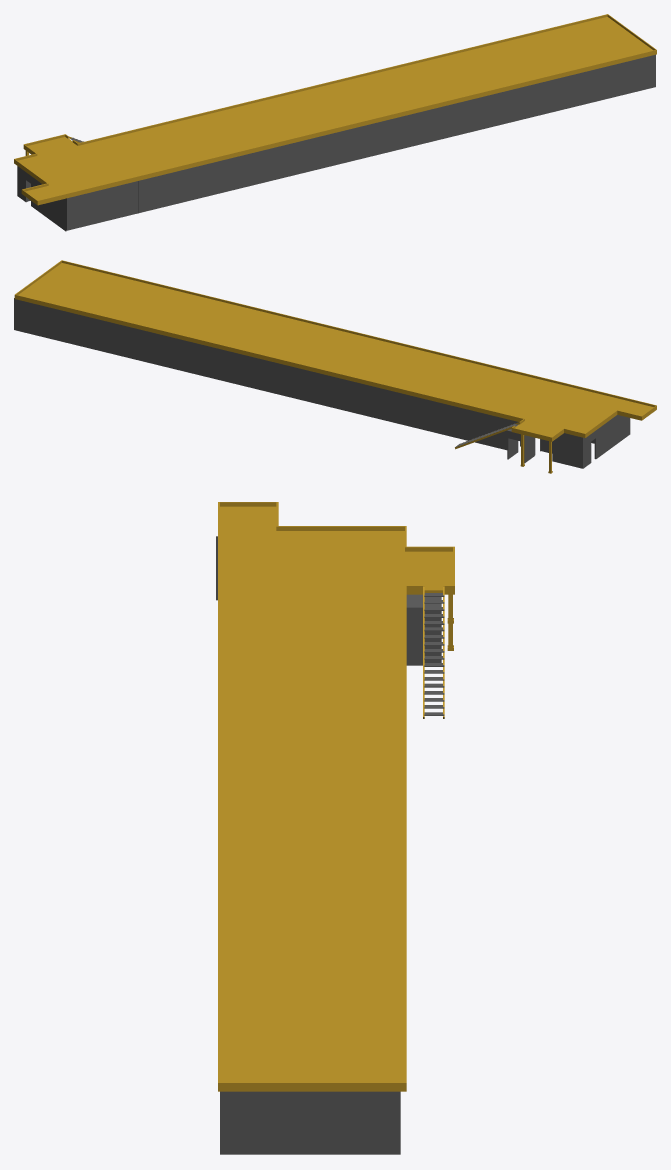
Rendered from interiorroom3only.FBX.
3 views of the same model, one above another, from view 1: azimuth 30°, elevation 25°; view 2: azimuth 150°, elevation 25°; view 3: azimuth 270°, elevation 25° (orthographic). The views are drawn at different scales.
Visible parts, largest first — view 1: floor2; view 2: floor2; view 3: floor2.
Boxes of the visible parts, x1,y1,x2,y2 form: floor2: (14, 14, 656, 231); floor2: (14, 260, 656, 473); floor2: (216, 502, 454, 1154).
Bounding box in the file's own units: 2301 × 139 × 399.
